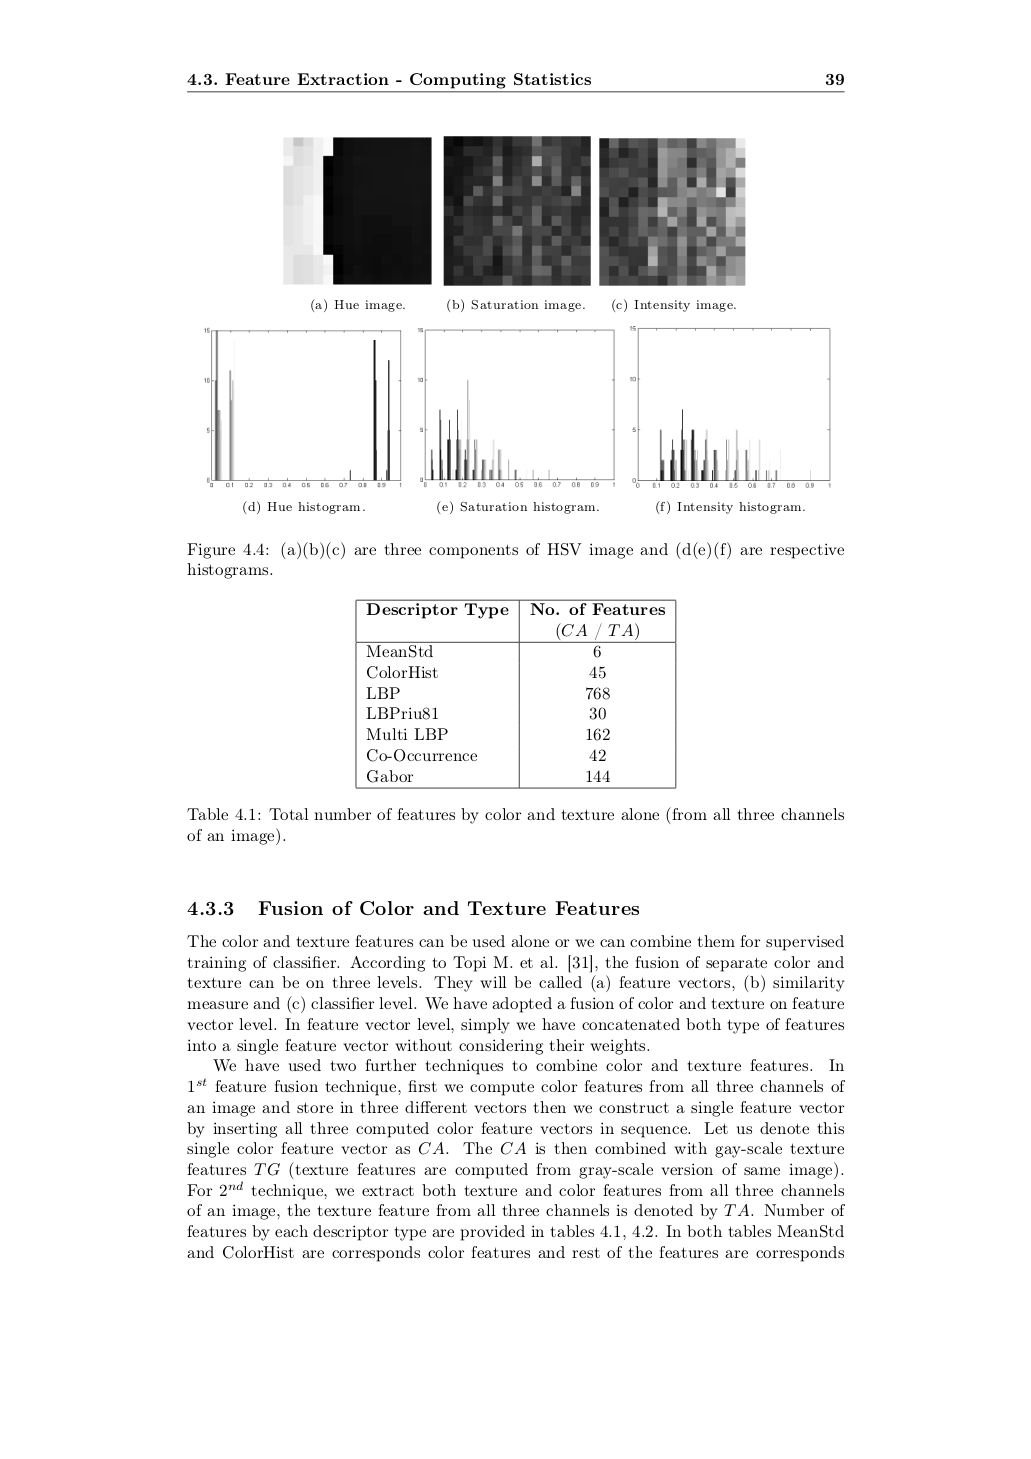Table: (355, 598, 676, 789)
figure: (630, 326, 830, 487), (204, 327, 401, 487), (418, 328, 614, 487), (443, 136, 590, 286), (283, 137, 431, 284), (599, 138, 745, 286)
